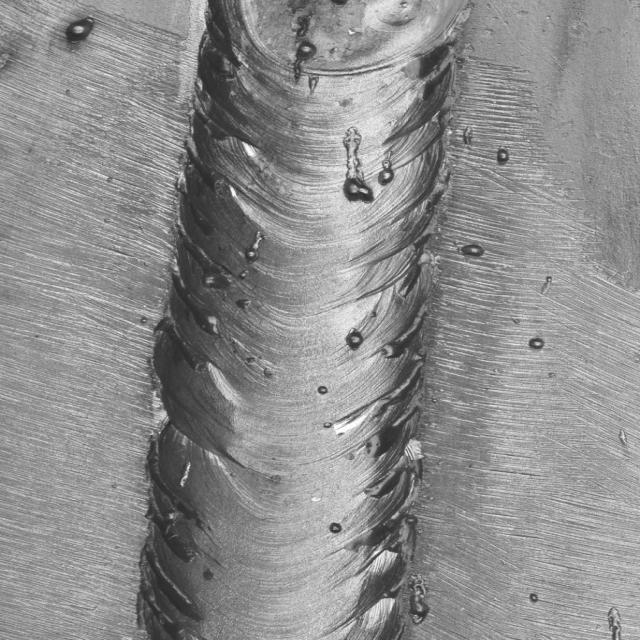Good Weld: (172, 1, 448, 640)
